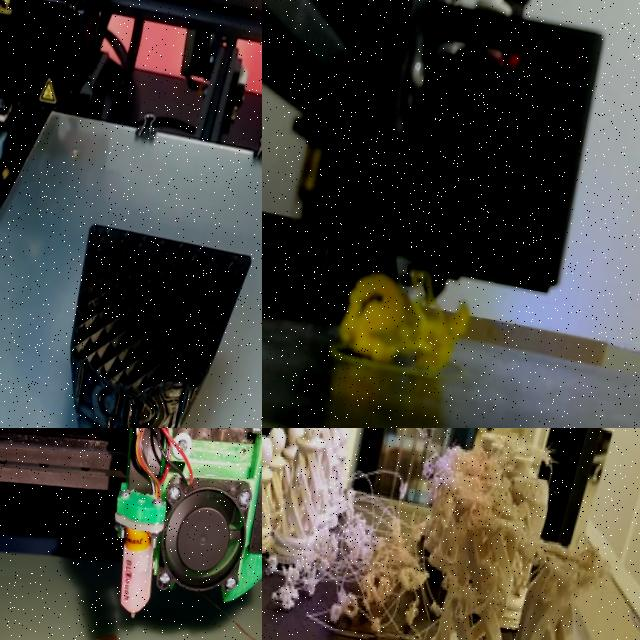spaghetti: (304, 484, 430, 640), (421, 428, 553, 542), (339, 272, 468, 369), (522, 528, 614, 604), (426, 556, 515, 626), (264, 586, 298, 620), (275, 553, 300, 583), (298, 569, 318, 599), (262, 552, 283, 577)
